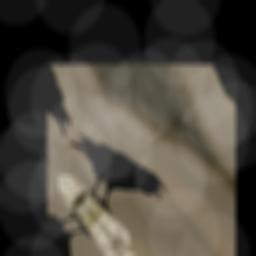Crow: (56, 107, 169, 238)
